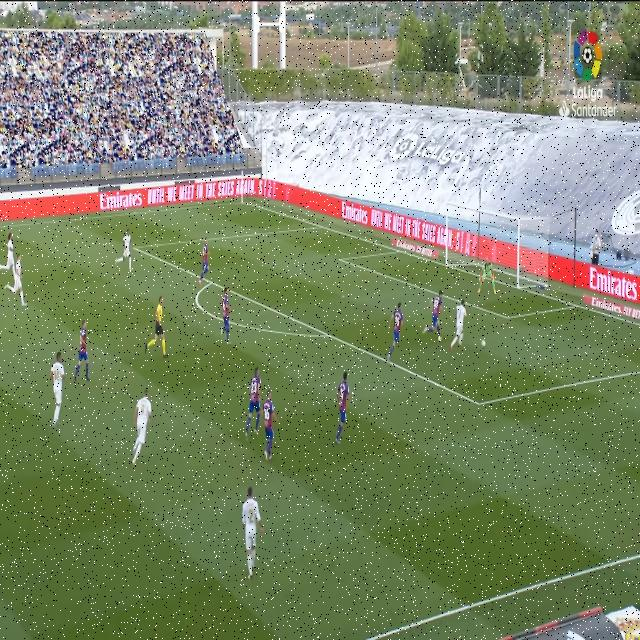Ball: (481, 334, 489, 352)
GoalKeeper: (474, 252, 500, 293)
TEAM 1: (240, 483, 263, 584), (133, 382, 153, 461), (47, 348, 65, 430), (5, 253, 28, 310), (114, 226, 133, 277), (451, 297, 468, 354), (0, 232, 18, 282)
TEAM 2: (75, 316, 97, 384), (333, 371, 351, 454), (384, 298, 404, 372), (261, 385, 279, 466), (422, 288, 445, 350), (216, 284, 236, 346), (246, 366, 262, 436), (196, 236, 216, 288)
